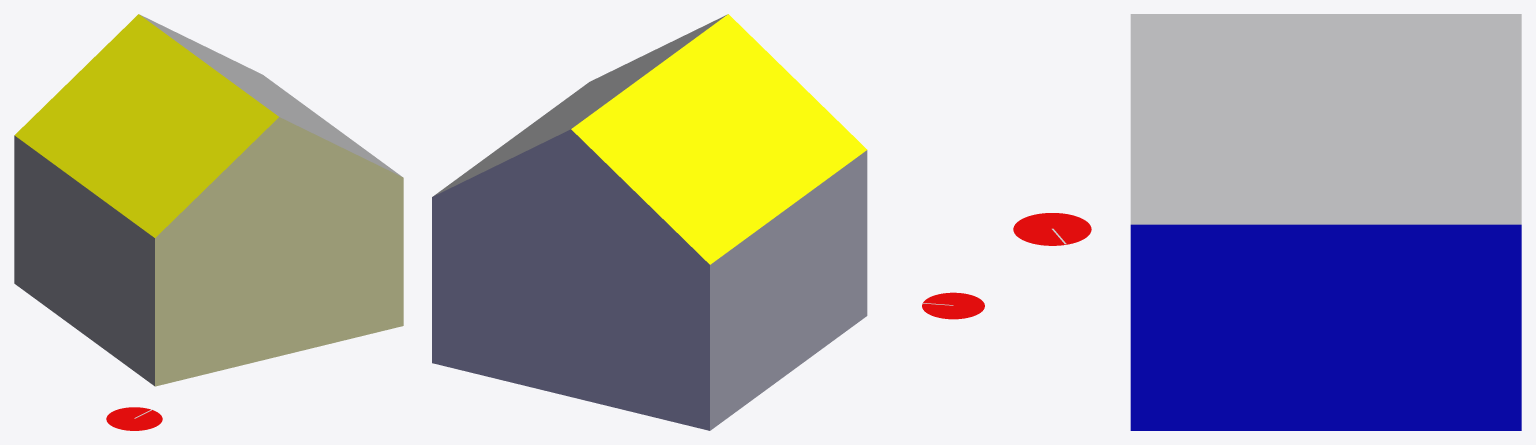
The model's file is result.glb.
The picture shows the model from 3 angles, left to right: view 1: azimuth 30°, elevation 25°; view 2: azimuth 150°, elevation 25°; view 3: azimuth 270°, elevation 25°; orthographic projection. The views are drawn at different scales.
Parts seen in each view (by area): view 1: 35fb973c-03f5-4262-8cbf-ad7d2476e1be__undefined, 4ef8160b-330b-4325-a184-06ffcb1a26ab__undefined, 41d10579-334d-4ce7-a973-3046246551ee__undefined, 496c522e-6d8b-46be-92b0-b1bf99275942__undefined, ad768647-beb0-43d7-bbdc-0bed53482009__Circle; view 2: 0aeec327-fe00-4832-b065-d5a002dbab11__undefined, 4ef8160b-330b-4325-a184-06ffcb1a26ab__undefined, 41d10579-334d-4ce7-a973-3046246551ee__undefined, 496c522e-6d8b-46be-92b0-b1bf99275942__undefined, ad768647-beb0-43d7-bbdc-0bed53482009__Circle; view 3: 496c522e-6d8b-46be-92b0-b1bf99275942__undefined, 3d588d13-92d3-4409-8a7b-6d590cc579ee__undefined, ad768647-beb0-43d7-bbdc-0bed53482009__Circle.
Part boxes in pixels (x1,y1,x2,y2): 35fb973c-03f5-4262-8cbf-ad7d2476e1be__undefined: [155, 117, 403, 386]; 4ef8160b-330b-4325-a184-06ffcb1a26ab__undefined: [14, 14, 278, 237]; 41d10579-334d-4ce7-a973-3046246551ee__undefined: [14, 135, 154, 386]; 496c522e-6d8b-46be-92b0-b1bf99275942__undefined: [139, 14, 401, 176]; ad768647-beb0-43d7-bbdc-0bed53482009__Circle: [106, 407, 162, 430]; 0aeec327-fe00-4832-b065-d5a002dbab11__undefined: [432, 129, 709, 430]; 4ef8160b-330b-4325-a184-06ffcb1a26ab__undefined: [571, 14, 867, 264]; 41d10579-334d-4ce7-a973-3046246551ee__undefined: [710, 150, 867, 430]; 496c522e-6d8b-46be-92b0-b1bf99275942__undefined: [433, 14, 727, 196]; ad768647-beb0-43d7-bbdc-0bed53482009__Circle: [922, 292, 984, 319]; 496c522e-6d8b-46be-92b0-b1bf99275942__undefined: [1130, 14, 1521, 224]; 3d588d13-92d3-4409-8a7b-6d590cc579ee__undefined: [1130, 224, 1521, 430]; ad768647-beb0-43d7-bbdc-0bed53482009__Circle: [1013, 213, 1091, 245].
Size of the model in its own units: 660 by 469 by 650.
